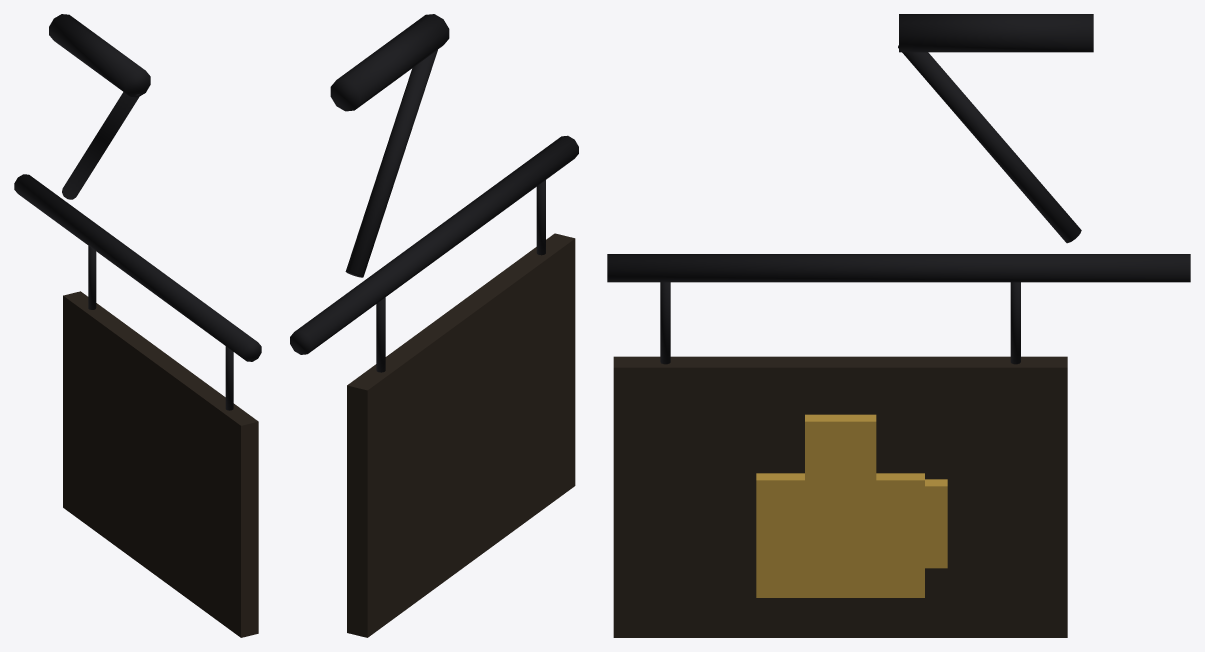
Rendered from wirtshausschild.glb.
The picture shows the model from 3 angles, left to right: view 1: azimuth 30°, elevation 25°; view 2: azimuth 150°, elevation 25°; view 3: azimuth 270°, elevation 25°; orthographic projection. The views are drawn at different scales.
Visible parts, largest first — view 1: wirtshausschild; view 2: wirtshausschild; view 3: wirtshausschild.
Boxes of the visible parts, x1=… form: wirtshausschild: x1=14, y1=14, x2=261, y2=637; wirtshausschild: x1=290, y1=14, x2=578, y2=637; wirtshausschild: x1=607, y1=14, x2=1190, y2=637.
Bounding box in the file's own units: 0.0735 × 1.05 × 0.9.
